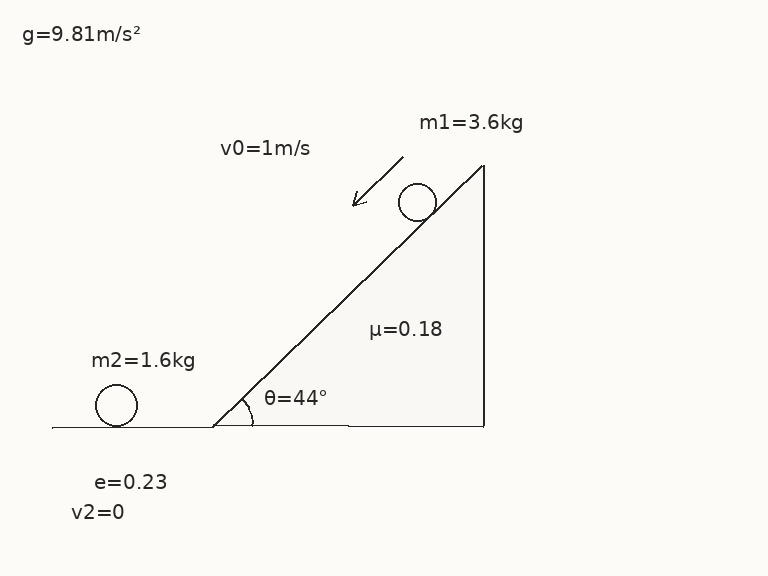ball: (93, 382, 139, 428), (396, 181, 438, 223)
ramp: (211, 164, 485, 428)
